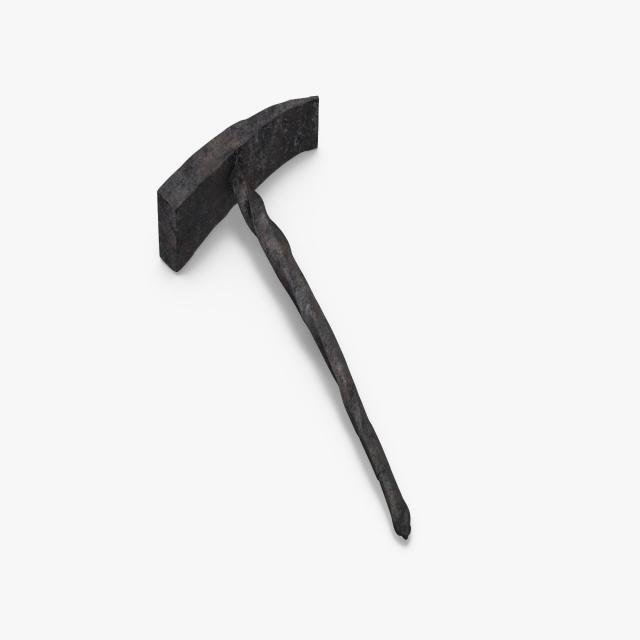hammer: (150, 86, 416, 549)
